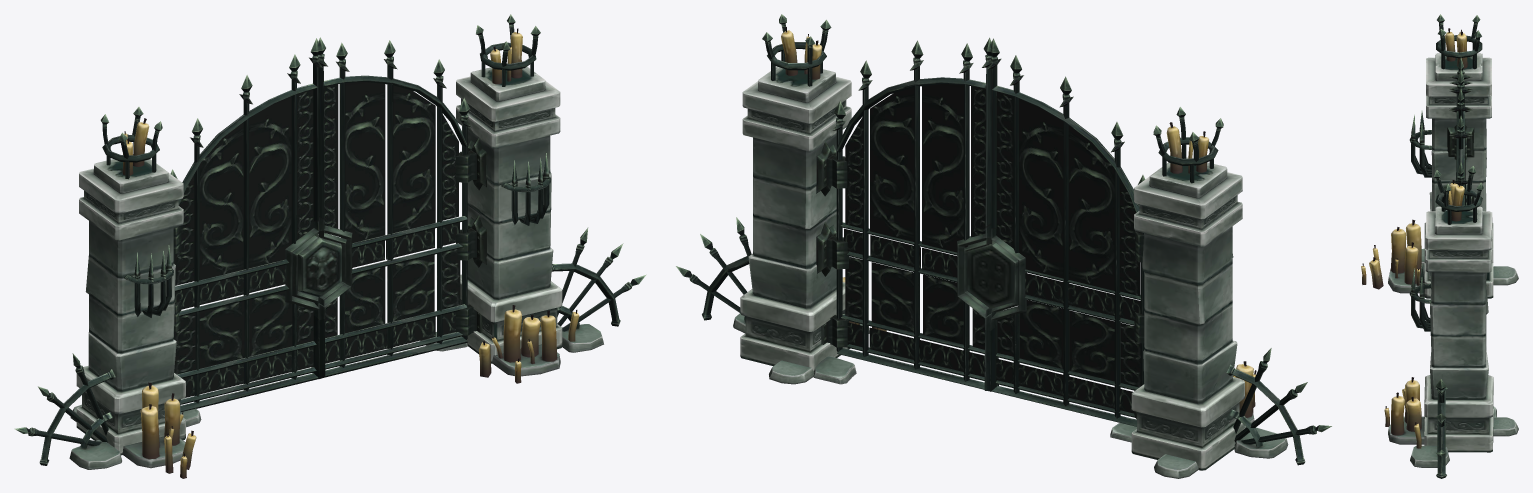
Rendered from gate.glb.
3 views of the same model, side by side, from view 1: azimuth 30°, elevation 25°; view 2: azimuth 150°, elevation 25°; view 3: azimuth 270°, elevation 25° (orthographic). The views are drawn at different scales.
Parts seen in each view (by area): view 1: gate, transp, transp.001, metal, metal.001; view 2: gate, transp, transp.001, metal, metal.001; view 3: gate, metal.001, metal.
Boxes of the visible parts, x1,y1,x2,y2 form: gate: (14, 14, 646, 478); transp: (174, 89, 313, 397); transp.001: (324, 82, 460, 363); metal: (170, 38, 341, 411); metal.001: (318, 37, 471, 378); gate: (676, 14, 1331, 478); transp: (996, 91, 1140, 413); transp.001: (844, 84, 985, 376); metal: (967, 38, 1145, 426); metal.001: (832, 37, 991, 391); gate: (1361, 14, 1518, 478); metal.001: (1449, 71, 1472, 205); metal: (1449, 57, 1472, 174).
Size of the model in its own units: 10.04 by 5.33 by 2.6.
1 material, 1 textured.
